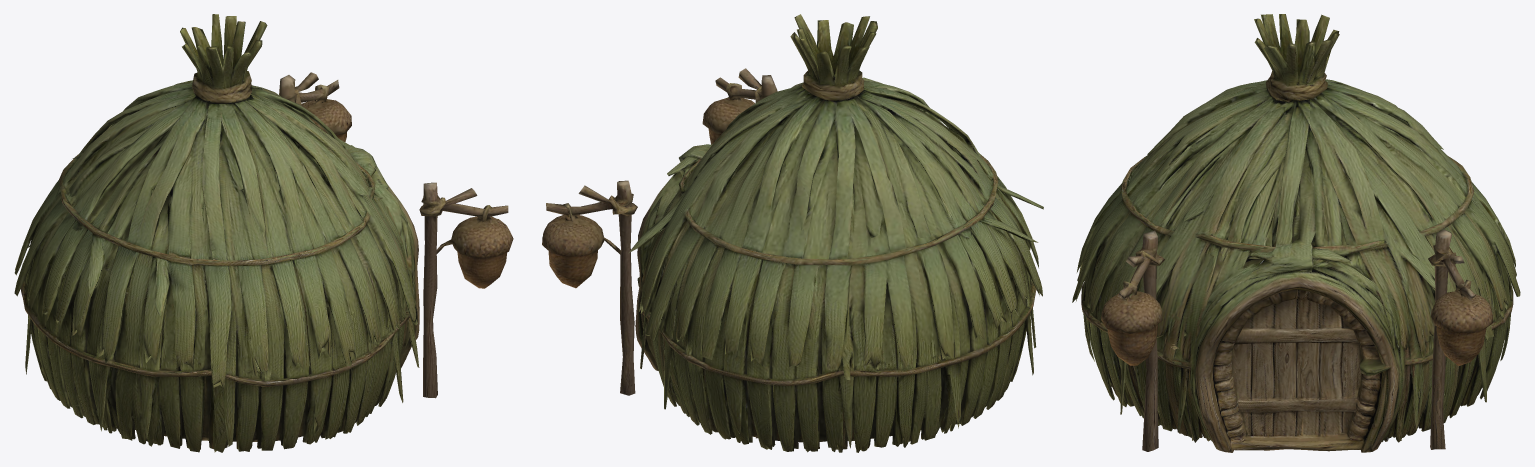
The model's file is tripo_convert_95655abe-4003-4424-9cb7-60fdeaab421f.fbx.
3 views of the same model, side by side, from view 1: azimuth 30°, elevation 25°; view 2: azimuth 150°, elevation 25°; view 3: azimuth 270°, elevation 25° (orthographic). The views are drawn at different scales.
Parts seen in each view (by area): view 1: tripo_node_95655abe; view 2: tripo_node_95655abe; view 3: tripo_node_95655abe.
Boxes of the visible parts, left/top/right/bottom form: tripo_node_95655abe: left=14, top=14, right=513, bottom=452; tripo_node_95655abe: left=542, top=14, right=1043, bottom=452; tripo_node_95655abe: left=1072, top=14, right=1520, bottom=452.
Bounding box in the file's own units: 1 × 0.8839 × 0.9978.
1 material, 1 textured.
